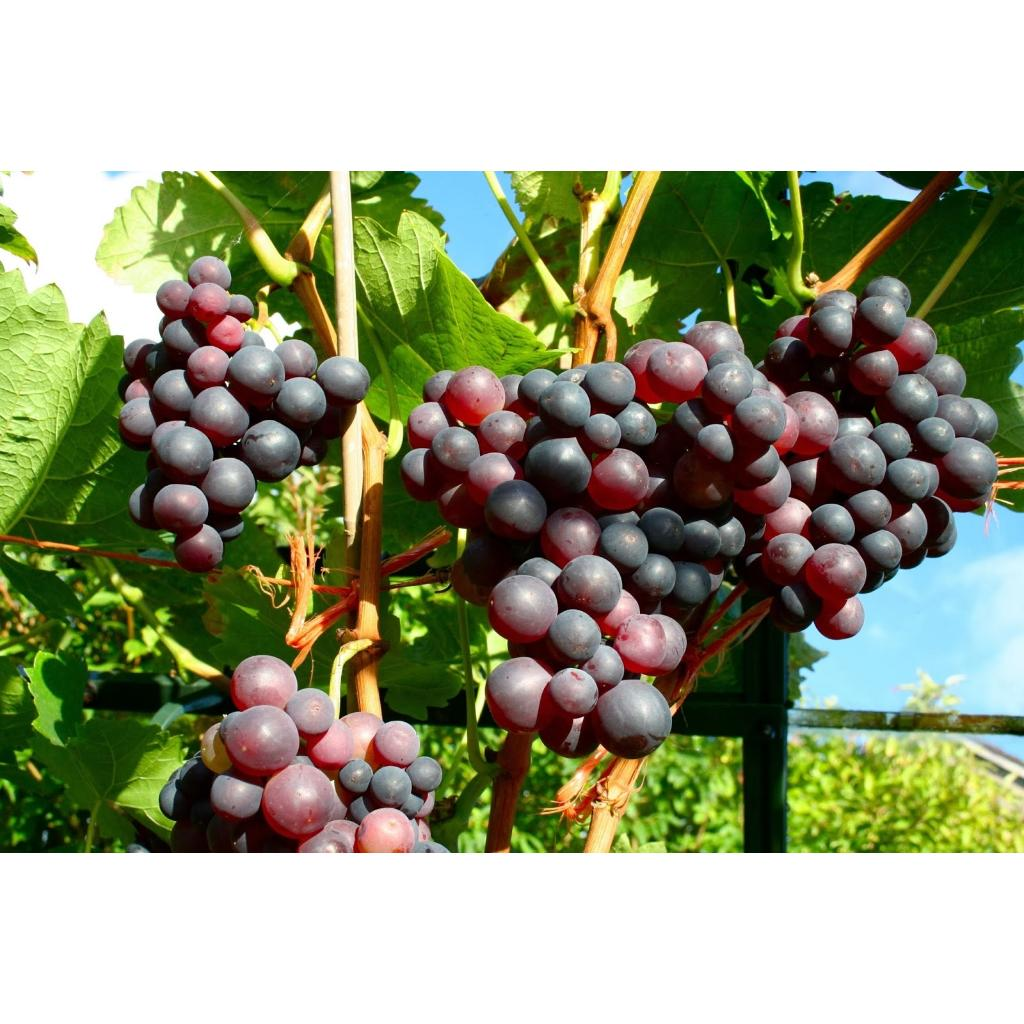grape: (400, 275, 998, 766), (118, 255, 367, 572), (158, 655, 444, 852)
